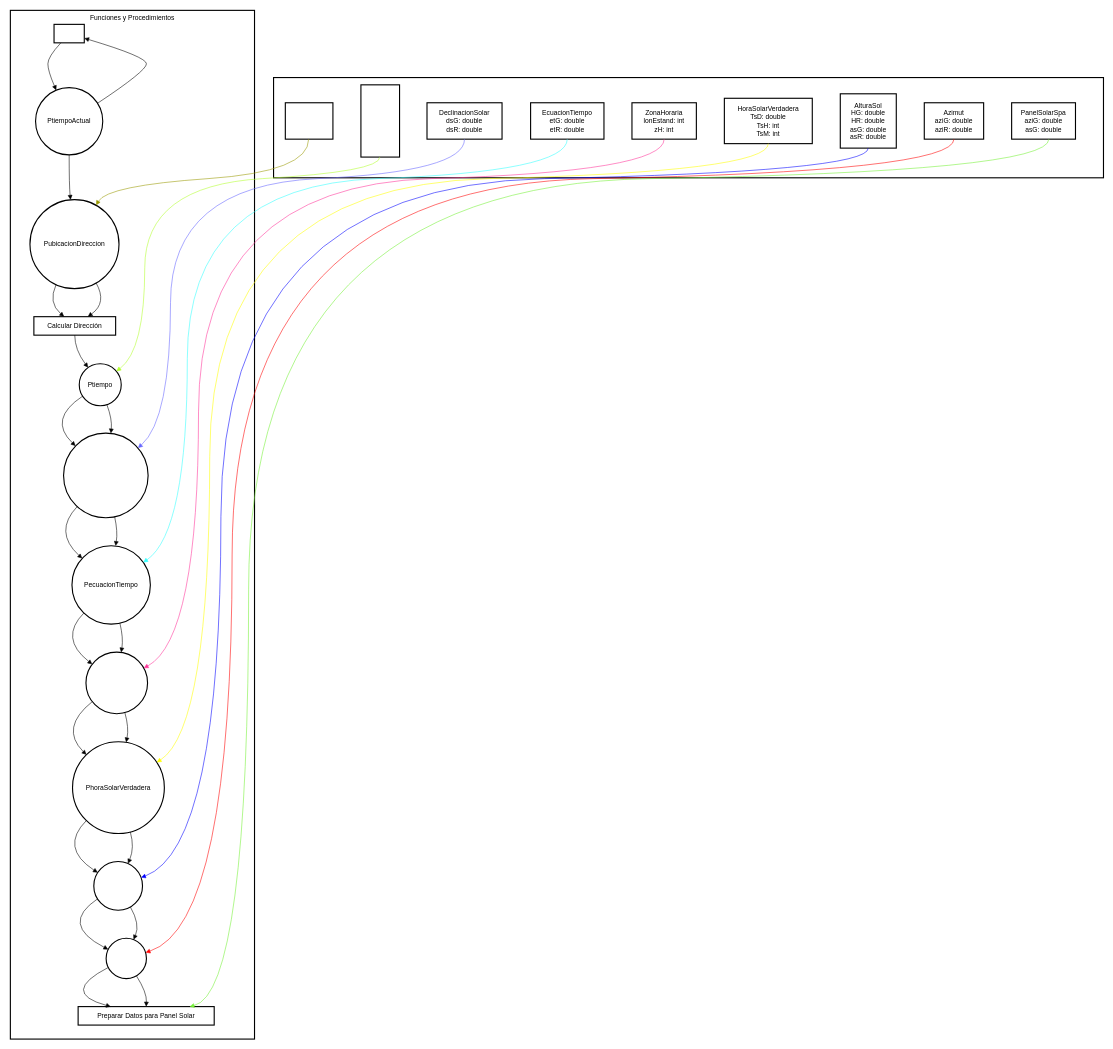
Some shapes in this 1113 by 1049 pixel diagram are drawn without their labels. Here are the shapes that lost their labels. From the top down, the box of each, then its label:
(53, 24, 85, 43): Inicio
(284, 102, 333, 139): Ubicacion lat: float lon: float
(360, 84, 400, 157): Tiempo a: int m: int d: int a1: int m1: int d1: int
(273, 77, 1104, 178): Estructuras
(63, 432, 148, 518): PdeclinancionSolar
(85, 651, 148, 714): PzonaHoraria
(93, 861, 143, 911): PalturaSol
(105, 937, 147, 979): Pazimut
